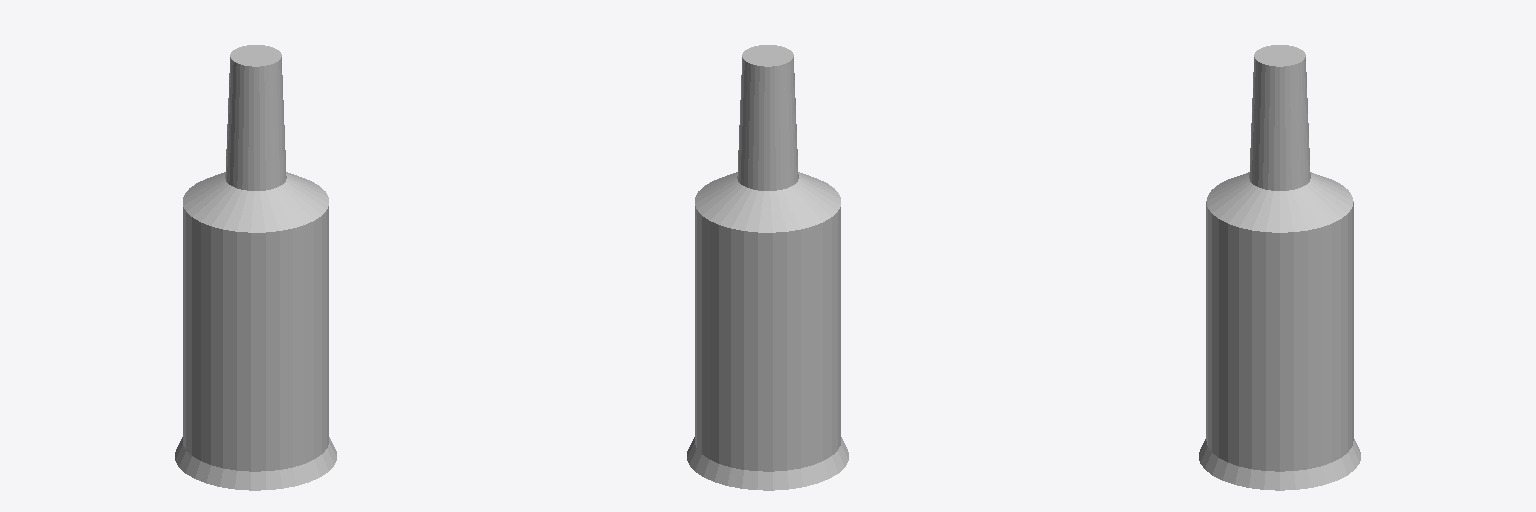
File: bouteillevin.obj
3 renders of one model, left to right at view 1: azimuth 30°, elevation 25°; view 2: azimuth 150°, elevation 25°; view 3: azimuth 270°, elevation 25°, orthographic.
Visible parts, largest first — view 1: bouteilledevin_Cylinder; view 2: bouteilledevin_Cylinder; view 3: bouteilledevin_Cylinder.
Part boxes in pixels (x1,y1,x2,y2): bouteilledevin_Cylinder: (175,45,336,490); bouteilledevin_Cylinder: (687,45,848,490); bouteilledevin_Cylinder: (1199,45,1360,490).
Size of the model in its own units: 0.1465 by 0.3969 by 0.1465.